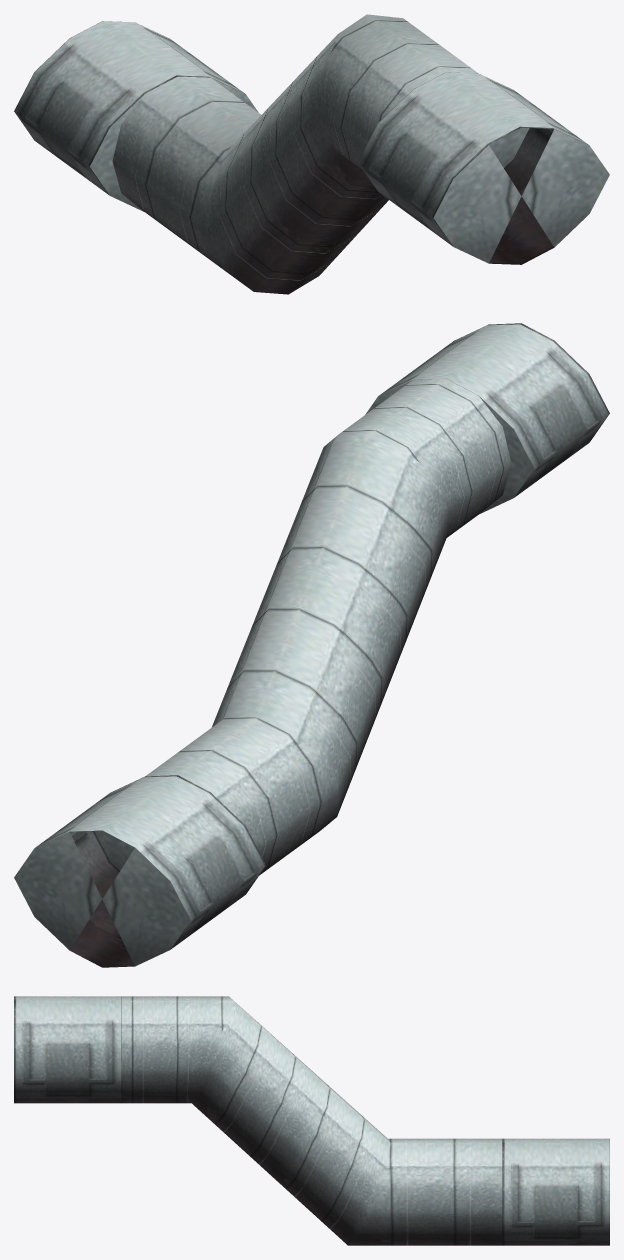
File: oil_pipes_riser_no_support.fbx
3 views of the same model, one above another, from view 1: azimuth 30°, elevation 25°; view 2: azimuth 150°, elevation 25°; view 3: azimuth 270°, elevation 25° (orthographic). The views are drawn at different scales.
Parts seen in each view (by area): view 1: mesh_0; view 2: mesh_0; view 3: mesh_0.
Boxes of the visible parts, <box> form: mesh_0: <box>14,14,609,294</box>; mesh_0: <box>14,323,609,967</box>; mesh_0: <box>14,996,609,1245</box>.
Size of the model in its own units: 103 by 188 by 423.
Materials: 1 (1 with a texture image).
